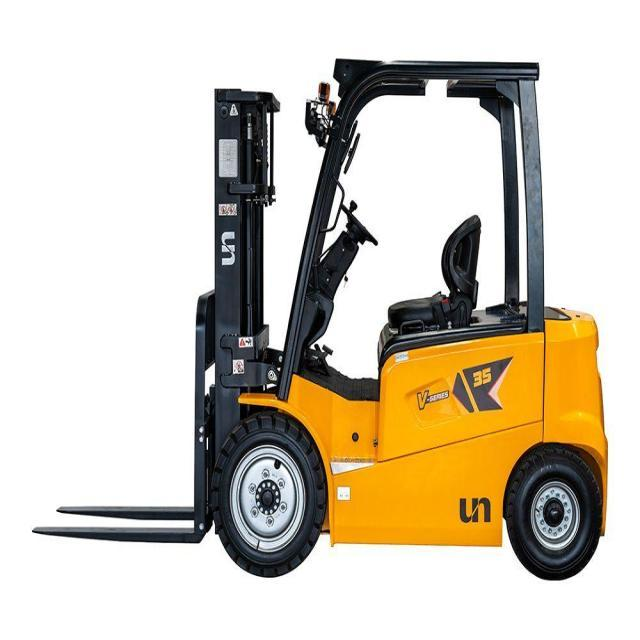forklift: (7, 41, 620, 594)
